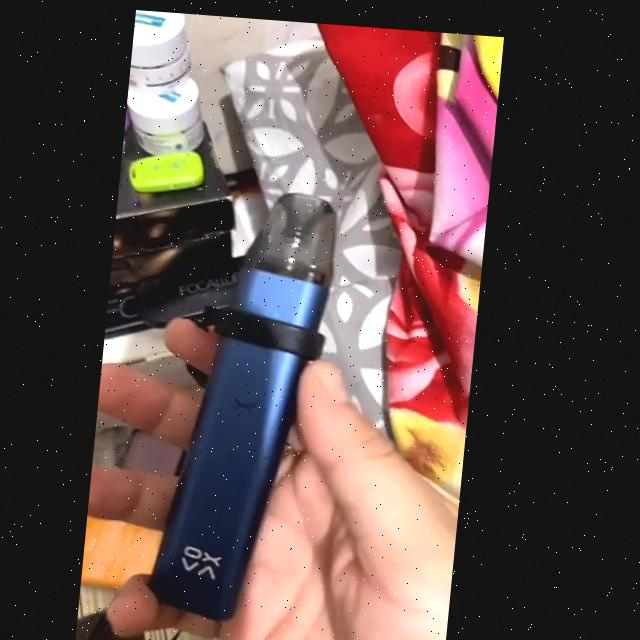vape: (157, 181, 346, 624)
